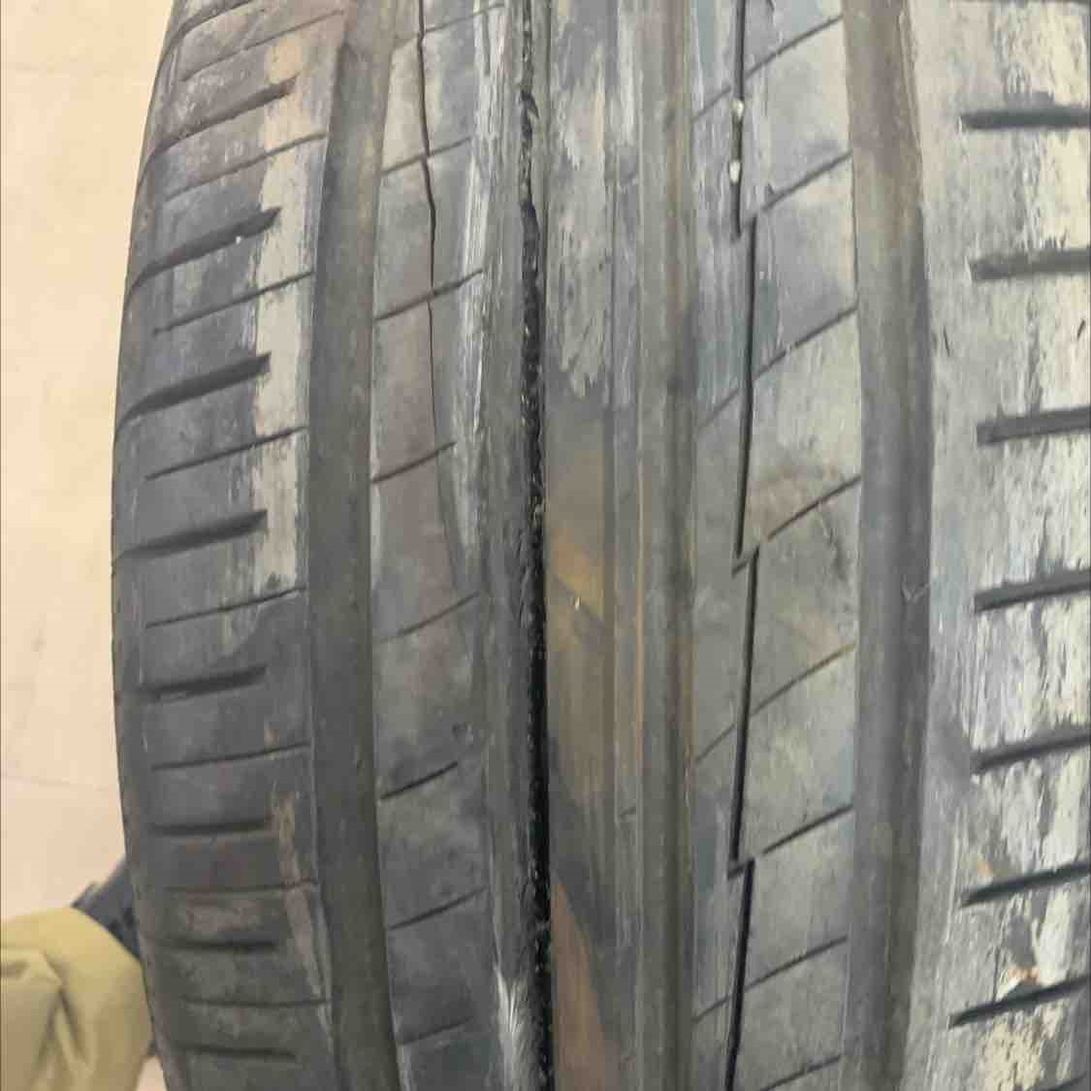tr: (506, 4, 567, 1090)
